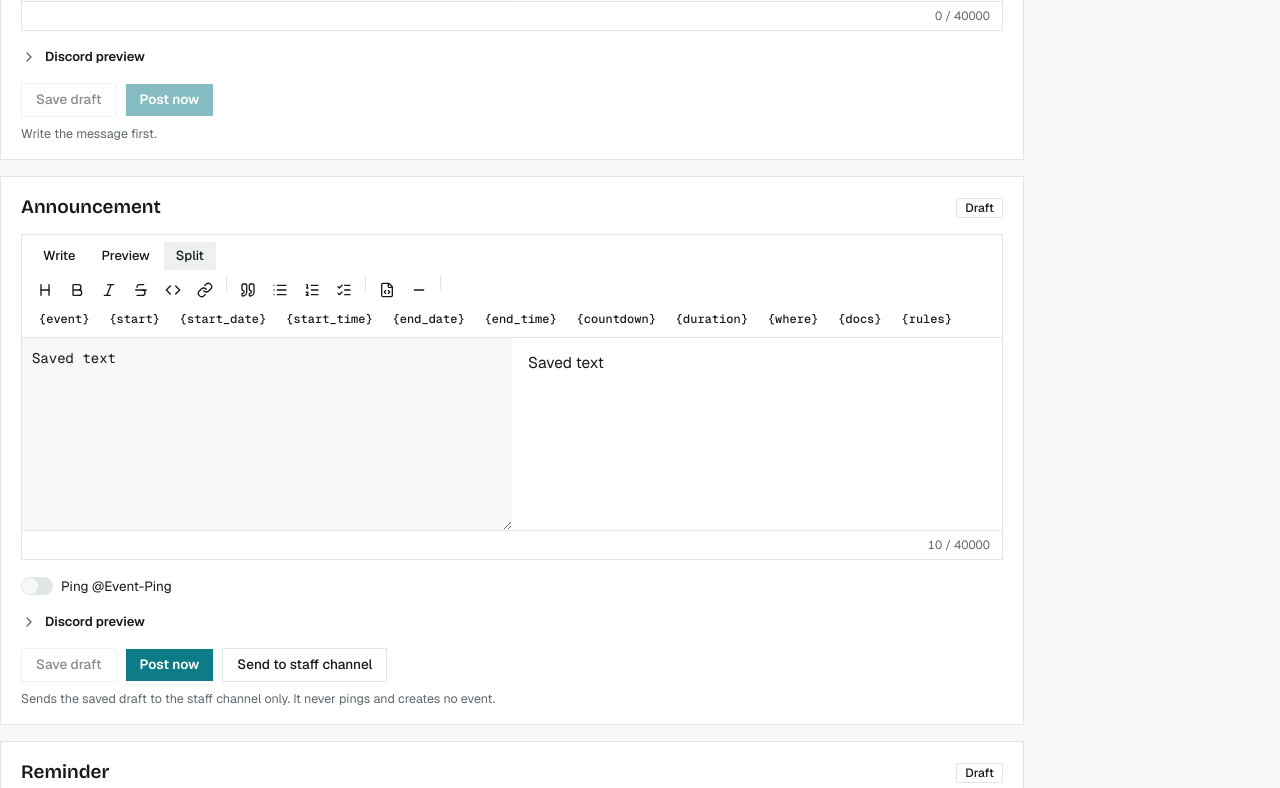
Test case: MessagesTab › inserts a placeholder chip at the caret
(page scrolled)
Replace the text in the text box next to "Saved text" with "Hello world" at [267, 434], box [22,338,512,530]
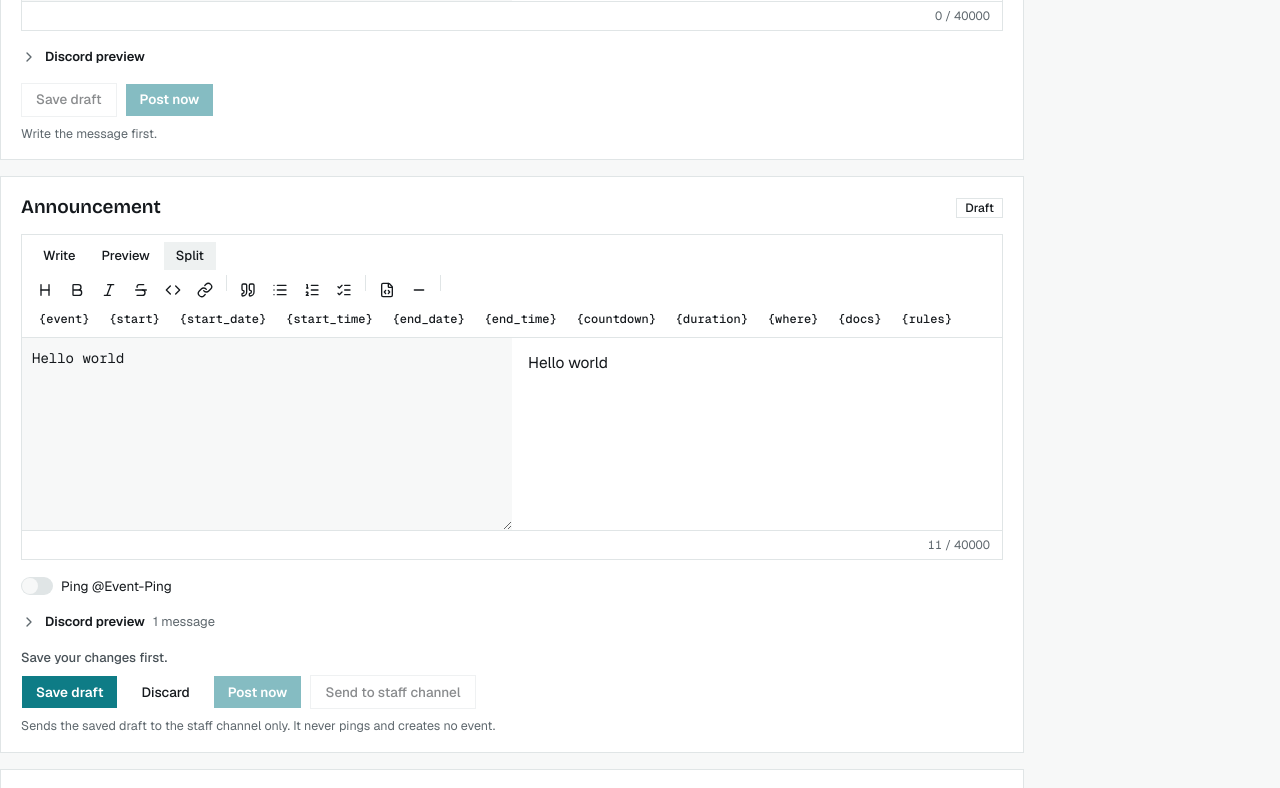
Click the button with aria-label "Insert event" at [64, 319], box [30,307,98,331]
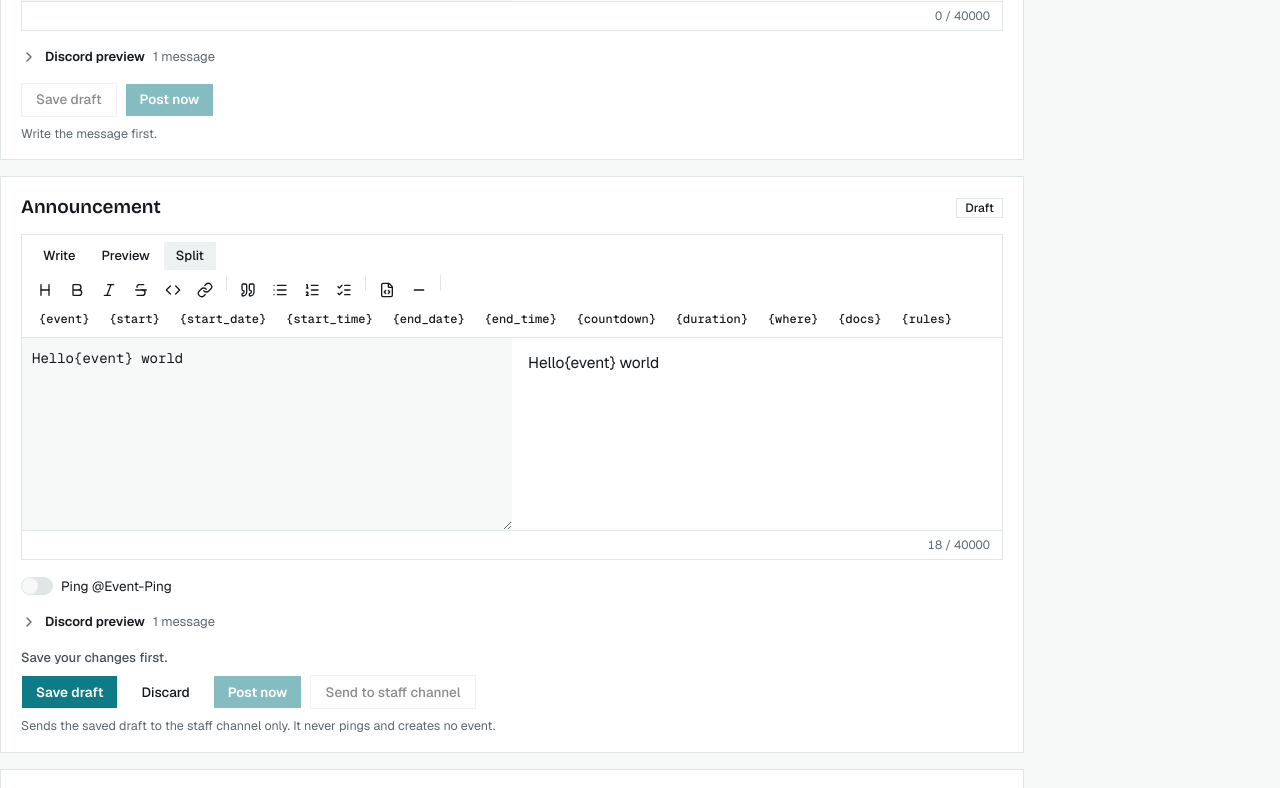
Expected: the text box next to "Hello{event} world" holds "Hello{event} world", [22,338,512,530]
